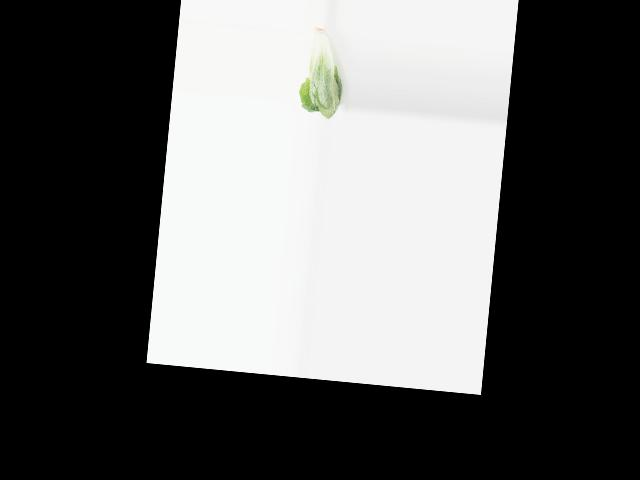lettuce: (295, 22, 350, 120)
